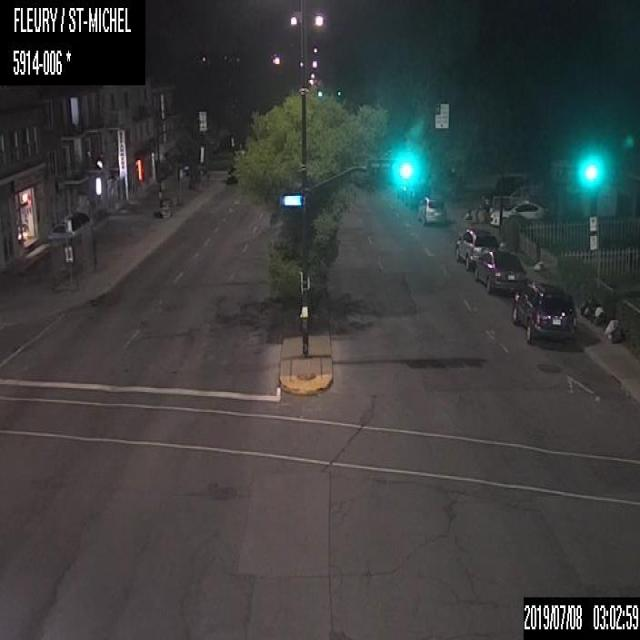vehicle: (511, 280, 577, 344), (474, 249, 524, 294), (454, 227, 497, 269), (489, 200, 545, 225), (417, 193, 445, 225), (227, 166, 240, 183)
